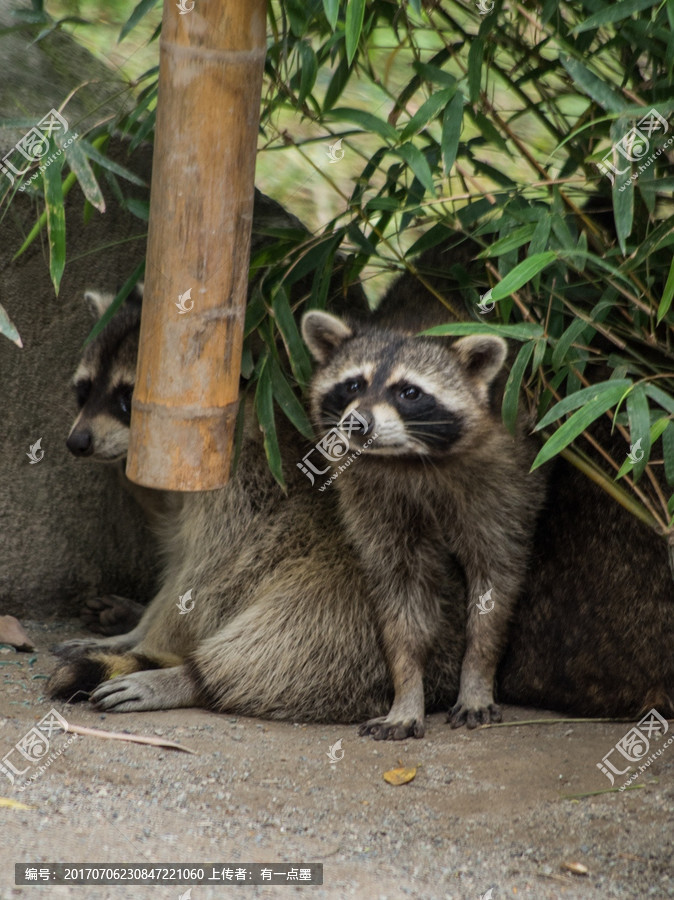raccoon: (35, 255, 387, 731), (299, 299, 561, 754)
